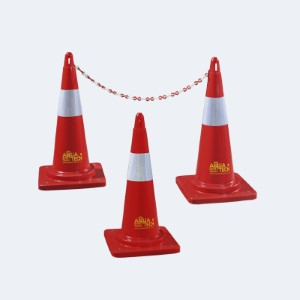traffic cone: (175, 57, 257, 204), (104, 112, 180, 258), (38, 52, 106, 190)
